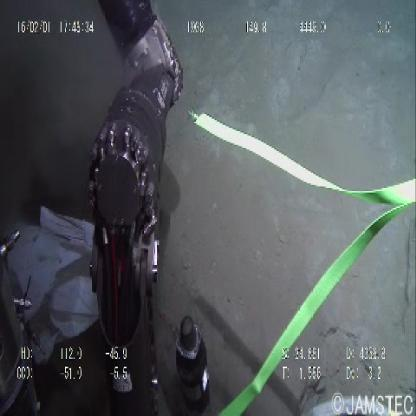Rov: (86, 1, 210, 414)
Rác: (5, 200, 102, 366)
